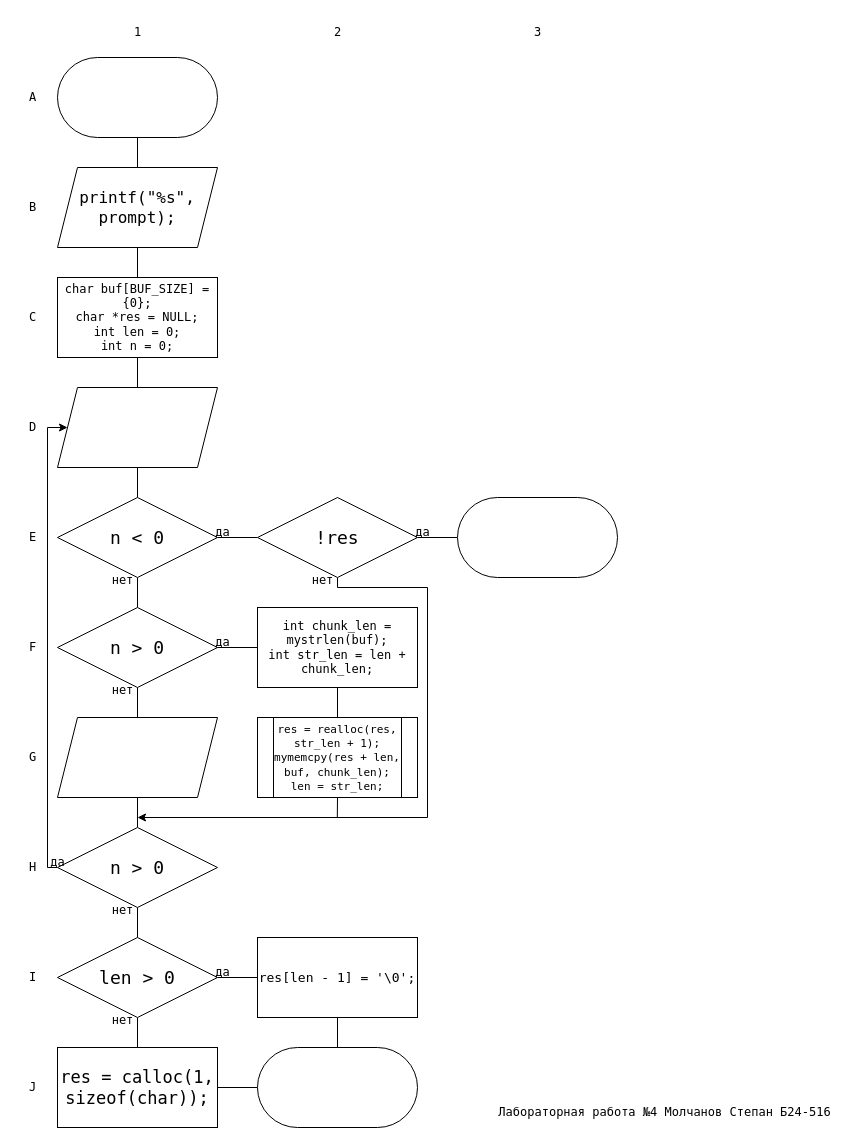
Some shapes in this 861 by 1145 pixel diagram are drawn without their labels. The shapes that lost their labels are listed below. From the top down, each one's box as (x1, y1, x2, y2) in pixels, then its label:
(56, 56, 218, 138): Начало char *myreadline(const char *prompt)
(56, 386, 218, 468): n = scanf( "%98[^\n]", buf);
(456, 496, 618, 578): return NULL;
(56, 716, 218, 798): scanf("%*c");
(256, 1046, 418, 1128): return res;
